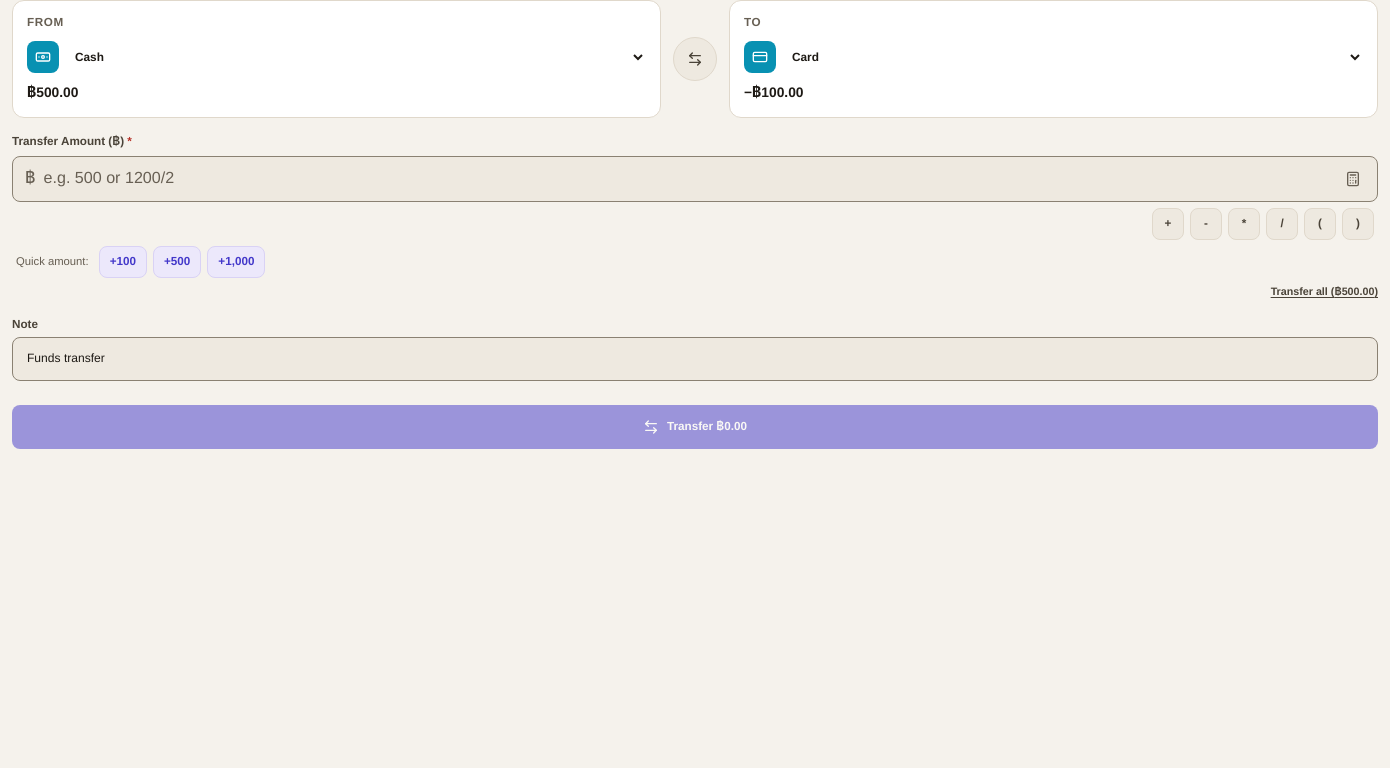
Test case: the transfer form › warns for a cash source going below zero, and not for a credit card
The width and height of the screenshot is (1390, 768).
Select "Cash" in the dropdown with id "src": (356, 57) x1=67 y1=35 x2=646 y2=79
In the field with id "xfer-amt": (688, 179) x1=44 y1=157 x2=1333 y2=201, type "700"
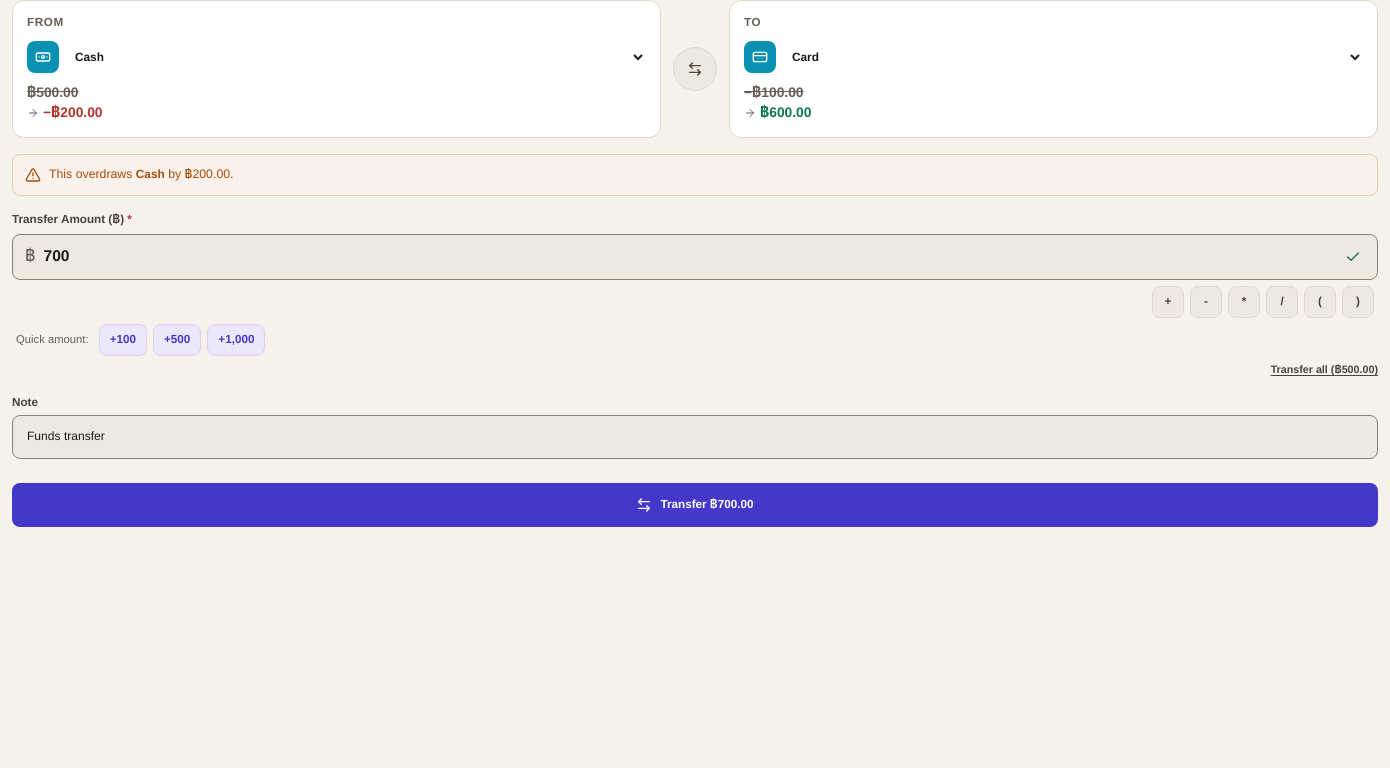
Check: the element with test id "transfer-overdraft-warning" reads "This overdraws Cash by ฿200.00.", box x1=12 y1=154 x2=1378 y2=196
Select "Card" in the dropdown with id "src": (356, 57) x1=67 y1=35 x2=646 y2=79
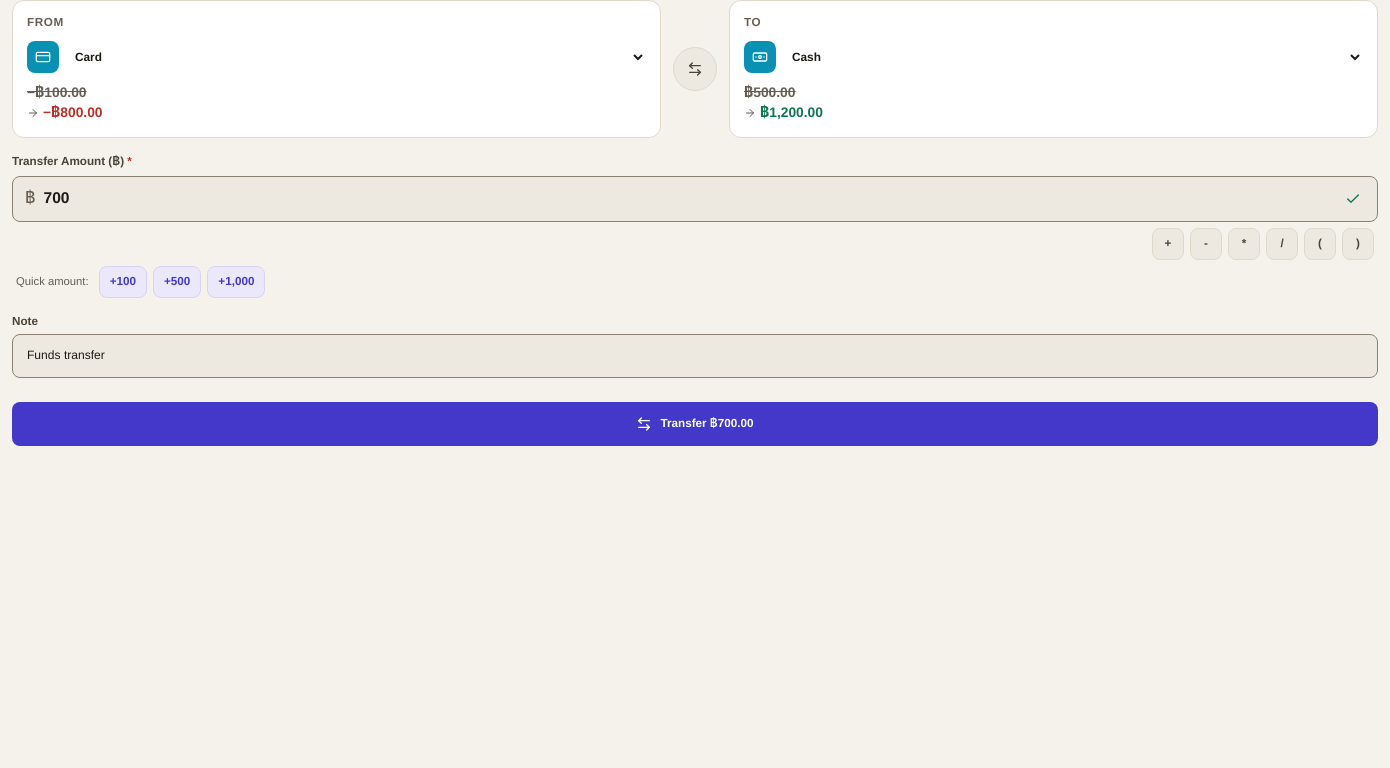
Check: the element with test id "transfer-overdraft-warning" is gone
